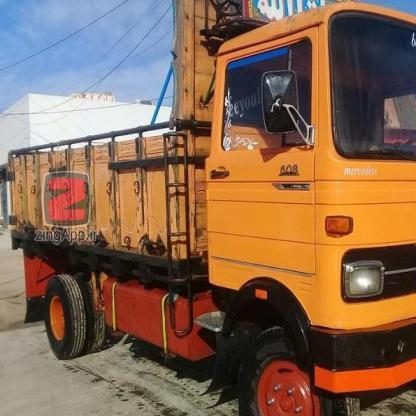Truck: (1, 0, 414, 416)
